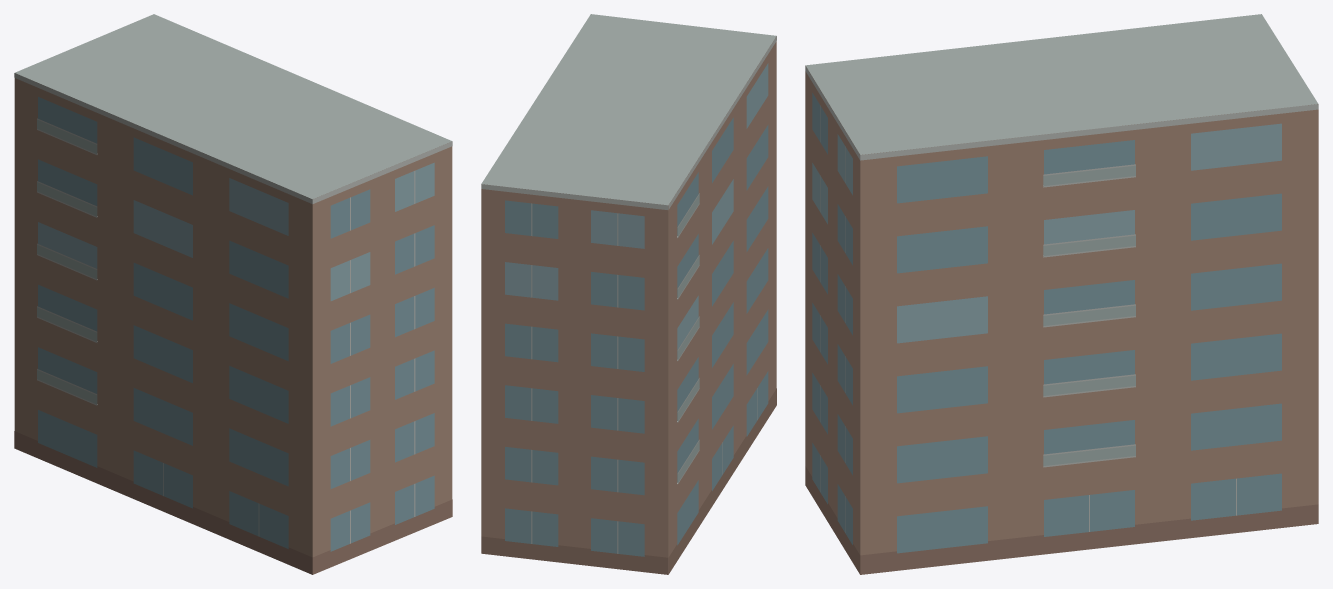
The model's file is survey-upis-32986599.glb.
The picture shows the model from 3 angles, left to right: view 1: azimuth 30°, elevation 25°; view 2: azimuth 150°, elevation 25°; view 3: azimuth 270°, elevation 25°; orthographic projection. The views are drawn at different scales.
Visible parts, largest first — view 1: survey-upis-32986599.tmp; view 2: survey-upis-32986599.tmp; view 3: survey-upis-32986599.tmp.
Part boxes in pixels (<box>): survey-upis-32986599.tmp: <box>14,14,452,574</box>; survey-upis-32986599.tmp: <box>481,14,776,574</box>; survey-upis-32986599.tmp: <box>805,14,1318,574</box>.
Bounding box in the file's own units: 13.26 × 18.4 × 20.39.
